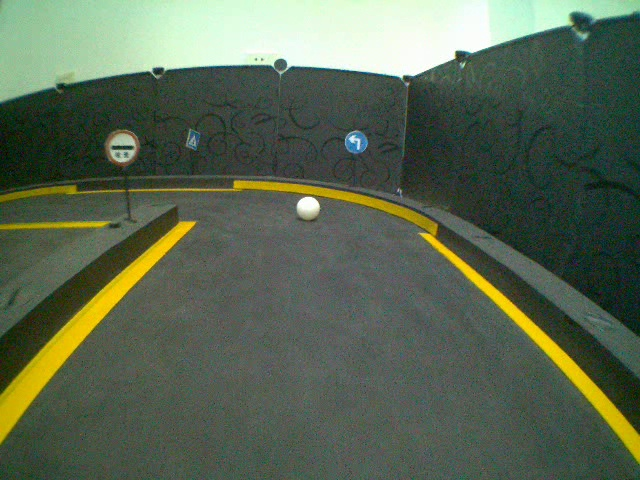ball: (294, 194, 323, 223)
